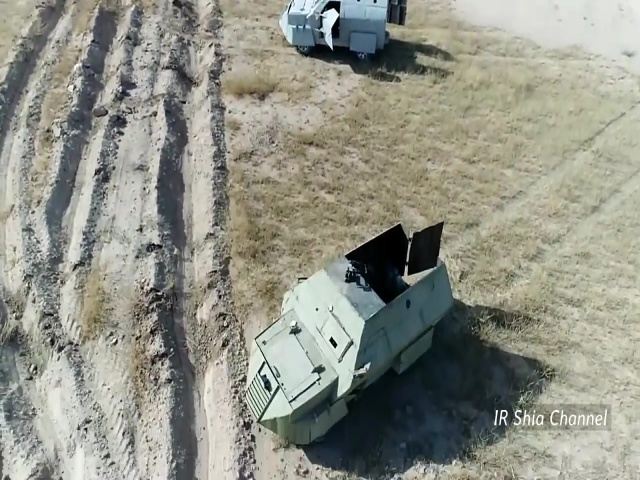vehicle: (244, 221, 454, 447), (277, 1, 409, 60)
